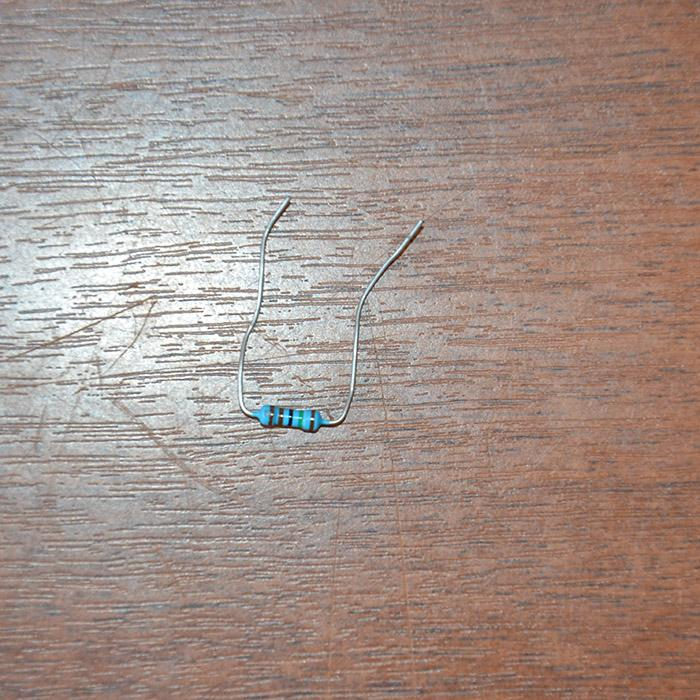resistor: (251, 404, 329, 433)
